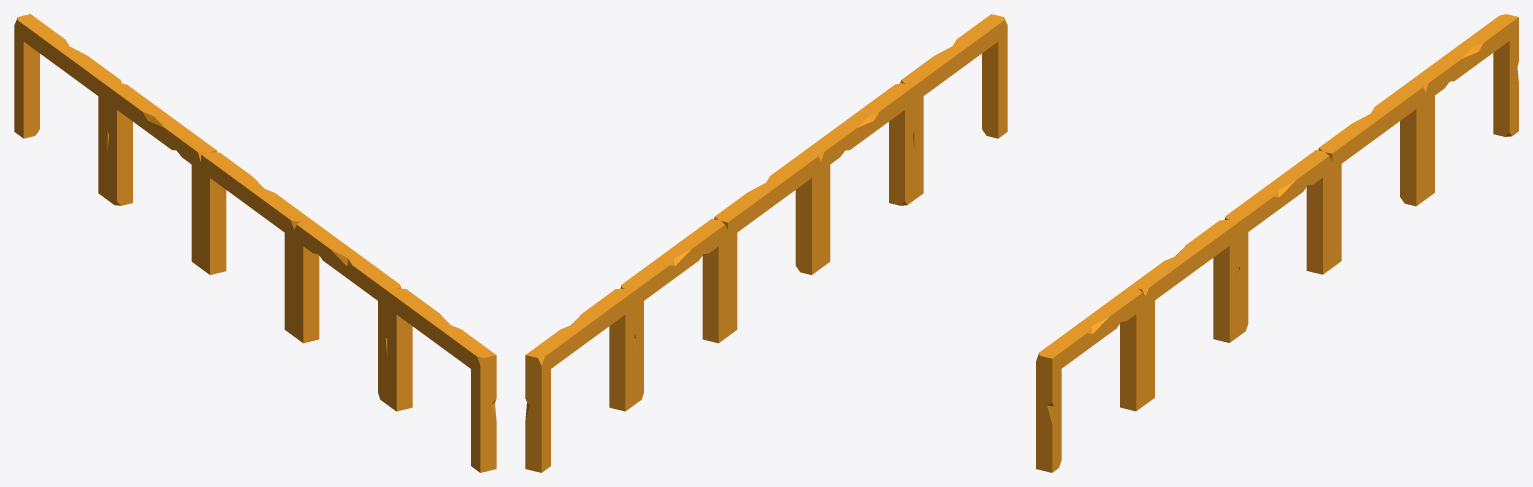
Rendered from SM_Buildings_Rail_5x1_01P.fbx.
3 views of the same model, side by side, from view 1: azimuth 30°, elevation 25°; view 2: azimuth 150°, elevation 25°; view 3: azimuth 330°, elevation 25° (orthographic).
Parts seen in each view (by area): view 1: SM_Buildings_Rail_5x1_01P; view 2: SM_Buildings_Rail_5x1_01P; view 3: SM_Buildings_Rail_5x1_01P.
Boxes of the visible parts, x1,y1,x2,y2 form: SM_Buildings_Rail_5x1_01P: (14,14,496,472); SM_Buildings_Rail_5x1_01P: (525,14,1007,472); SM_Buildings_Rail_5x1_01P: (1036,14,1518,472).
Bounding box in the file's own units: 10 × 67.5 × 500.
